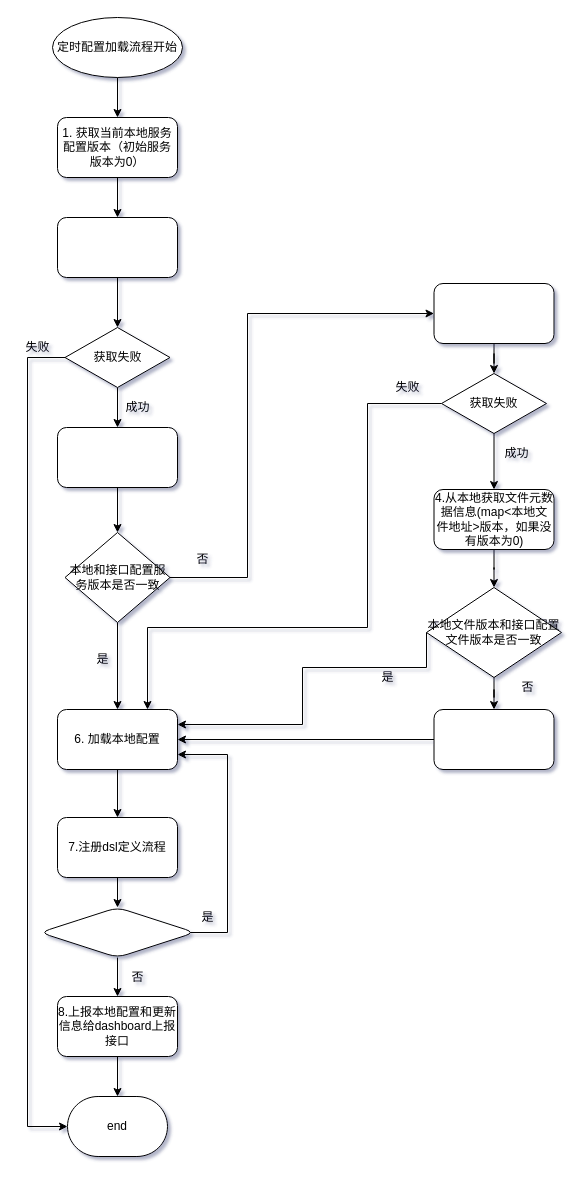
This 585x1180 diagram has some shape labels left out. Here are the shapes that lost their labels. From the top down, the centre of each, then its label:
pixel 117 247: 2. 从dashboard配置管理后台接口获取当前服务配置版本
pixel 493 313: 3.从dashboard配置管理后台接口获取当前配置文件数据
pixel 117 457: 从本地内存中获取服务版本
pixel 493 739: 5.写本地配置
pixel 117 932: 是否还有dsl加载
